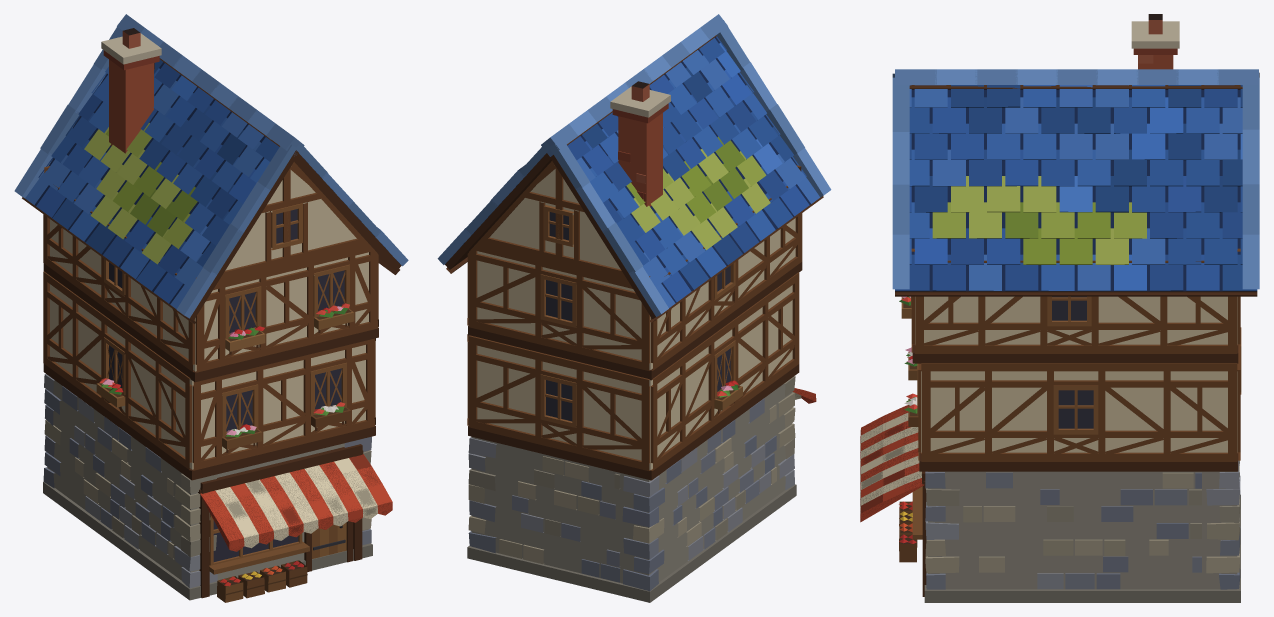
Rendered from town_house_narrow.glb.
3 renders of one model, left to right at view 1: azimuth 30°, elevation 25°; view 2: azimuth 150°, elevation 25°; view 3: azimuth 270°, elevation 25°, orthographic. The views are drawn at different scales.
Visible parts, largest first — view 1: town_house_narrow; view 2: town_house_narrow; view 3: town_house_narrow.
Boxes of the visible parts, x1,y1,x2,y2 form: town_house_narrow: [14, 14, 408, 602]; town_house_narrow: [437, 14, 831, 602]; town_house_narrow: [860, 14, 1259, 602].
Size of the model in its own units: 6.33 by 12.88 by 9.03.
